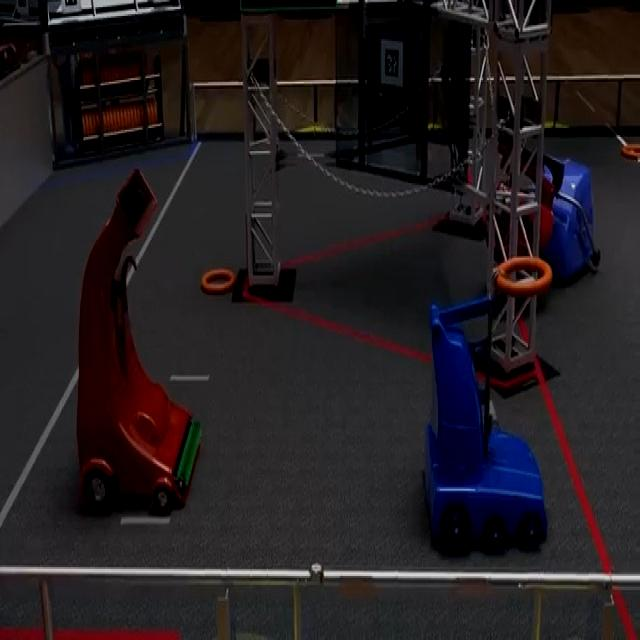notes: (493, 258, 551, 298), (200, 267, 237, 296), (619, 142, 640, 160)
